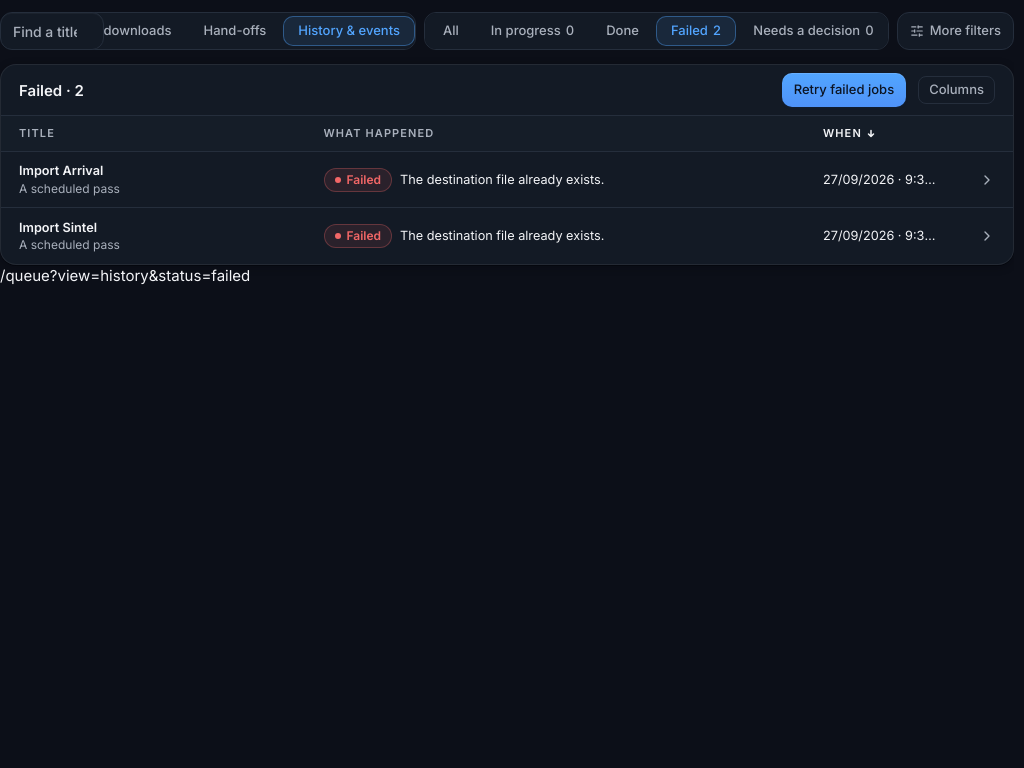
Test case: Activity's drawers and their failures (#1329) › Try again on a failed import job posts the retry for that job only, says it is being tried again, closes the drawer and reads again
Click the text "Import Arrival": (61, 171) [19,163,103,178]
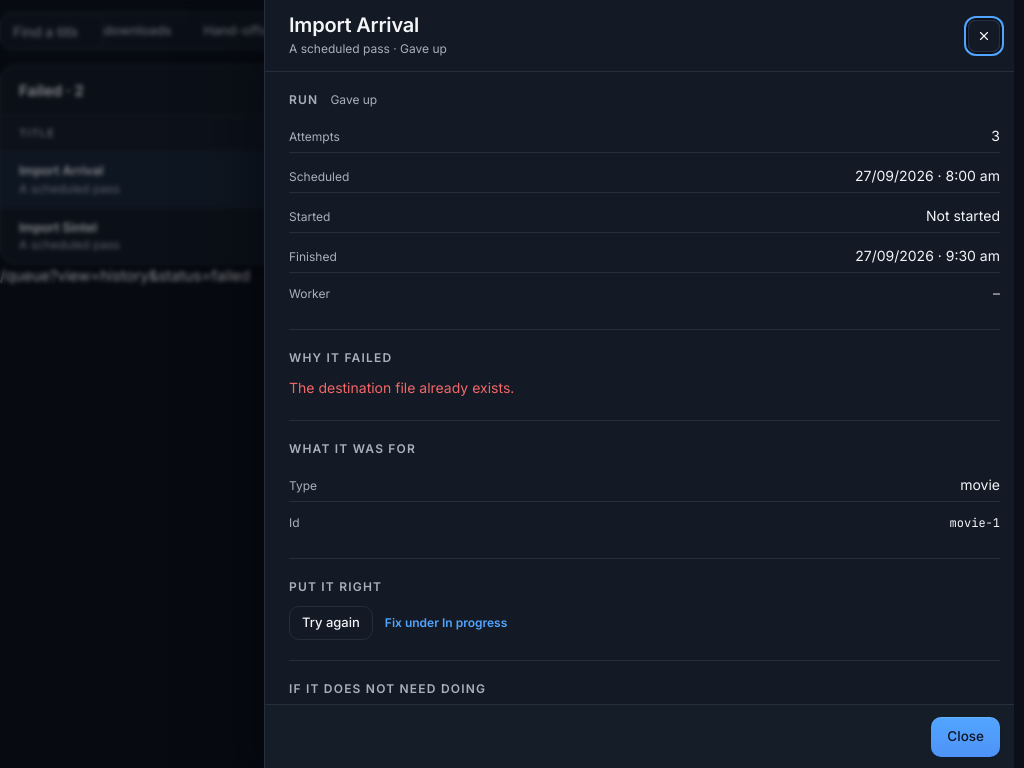
Click the button "Try again": (331, 623) [289,606,373,640]
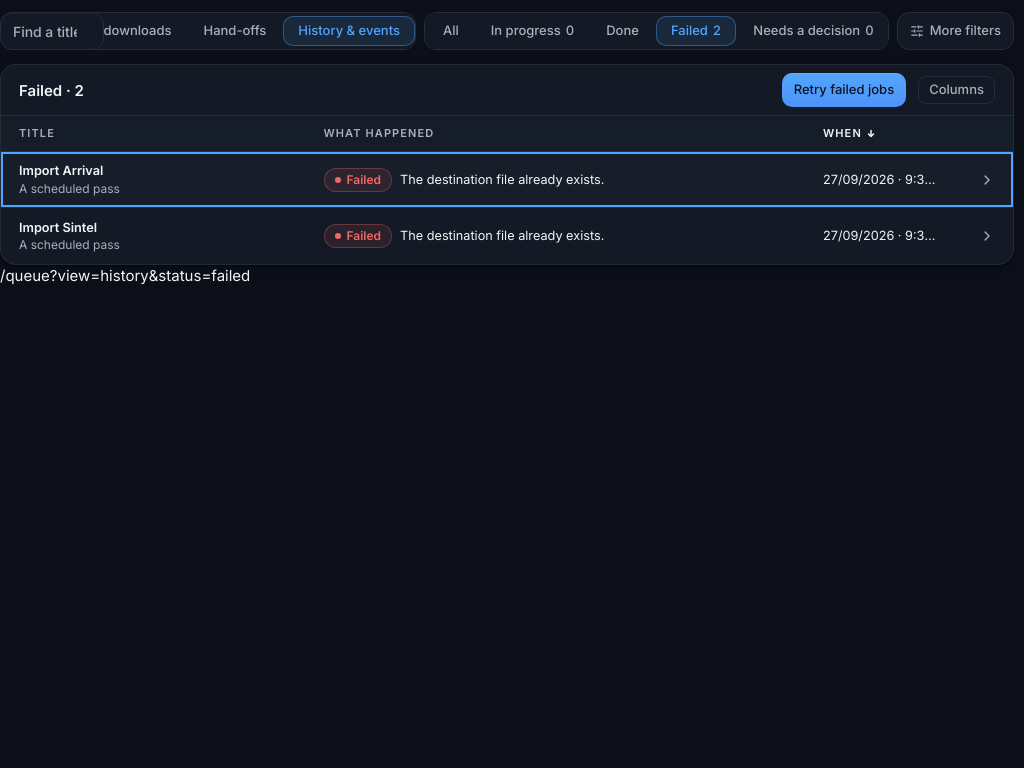
Now the dialog is gone
